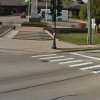crosswalk: (31, 52, 100, 74)
